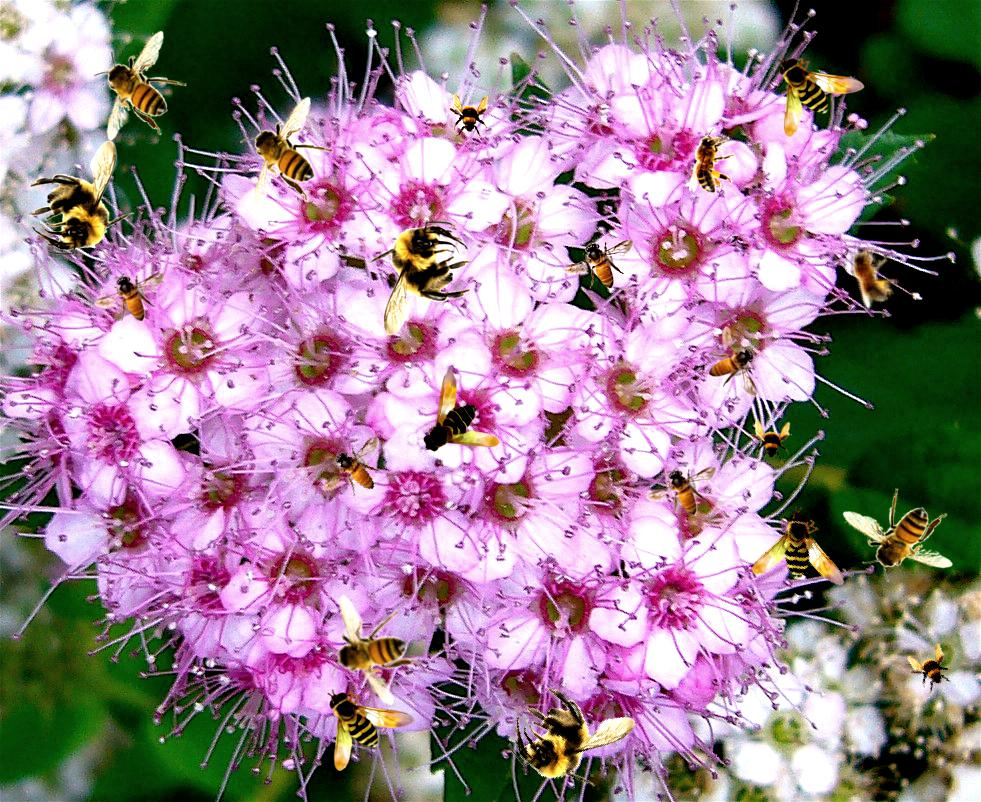Bee: (494, 657, 651, 802), (296, 575, 443, 719), (743, 503, 865, 623), (28, 140, 135, 255), (365, 221, 472, 336), (240, 96, 334, 207), (93, 30, 187, 141), (842, 488, 953, 582), (419, 367, 501, 455), (327, 689, 415, 771), (777, 55, 865, 137), (310, 434, 396, 507), (835, 232, 907, 313), (900, 639, 960, 699), (94, 272, 165, 322), (646, 466, 717, 516), (708, 326, 758, 397), (563, 239, 634, 289), (689, 127, 734, 193), (446, 93, 490, 137), (748, 419, 792, 463)
